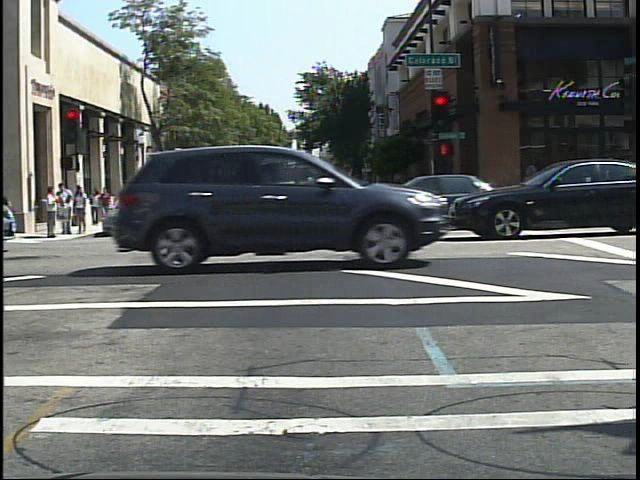person: (163, 181, 180, 218), (89, 187, 103, 228), (137, 180, 155, 211)
